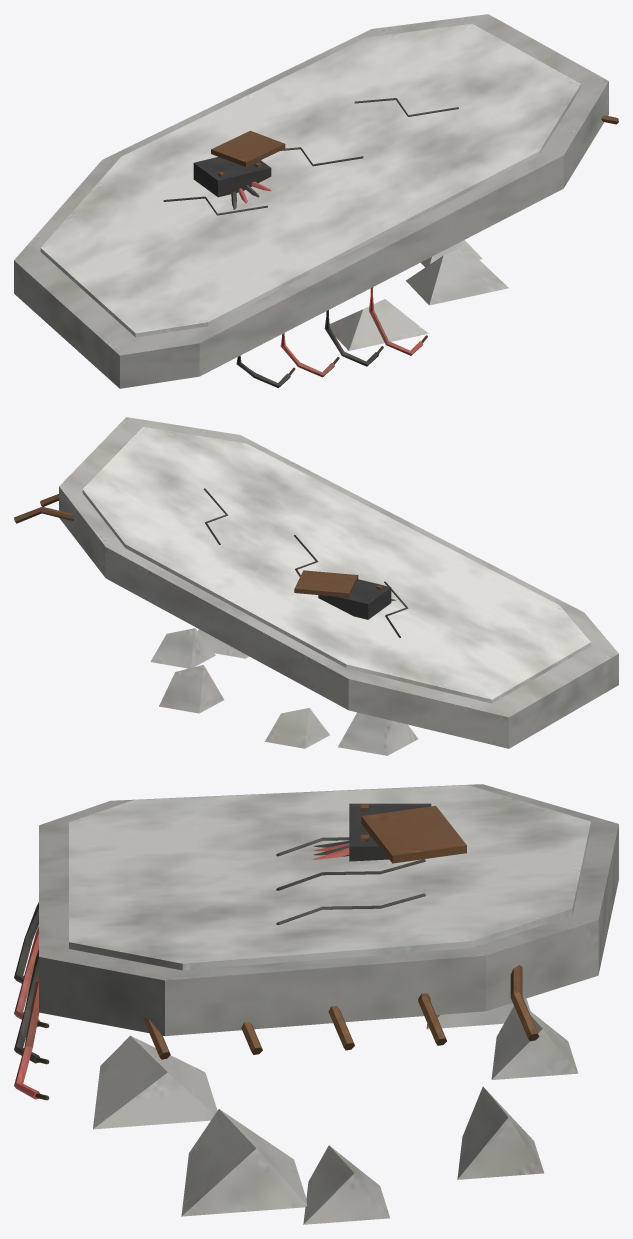
The model's file is BR18_collapsed_ceiling_piece_v1.glb.
The picture shows the model from 3 angles, top to bottom: view 1: azimuth 30°, elevation 25°; view 2: azimuth 150°, elevation 25°; view 3: azimuth 270°, elevation 25°; orthographic projection. The views are drawn at different scales.
Parts seen in each view (by area): view 1: Broken reinforced ceiling slab; view 2: Broken reinforced ceiling slab; view 3: Broken reinforced ceiling slab.
Part boxes in pixels (x1,y1,x2,y2): Broken reinforced ceiling slab: [14, 14, 618, 388]; Broken reinforced ceiling slab: [14, 417, 618, 755]; Broken reinforced ceiling slab: [14, 784, 618, 1224].
Bounding box in the file's own units: 3 × 1.06 × 1.83.
7 materials, 7 textured.
